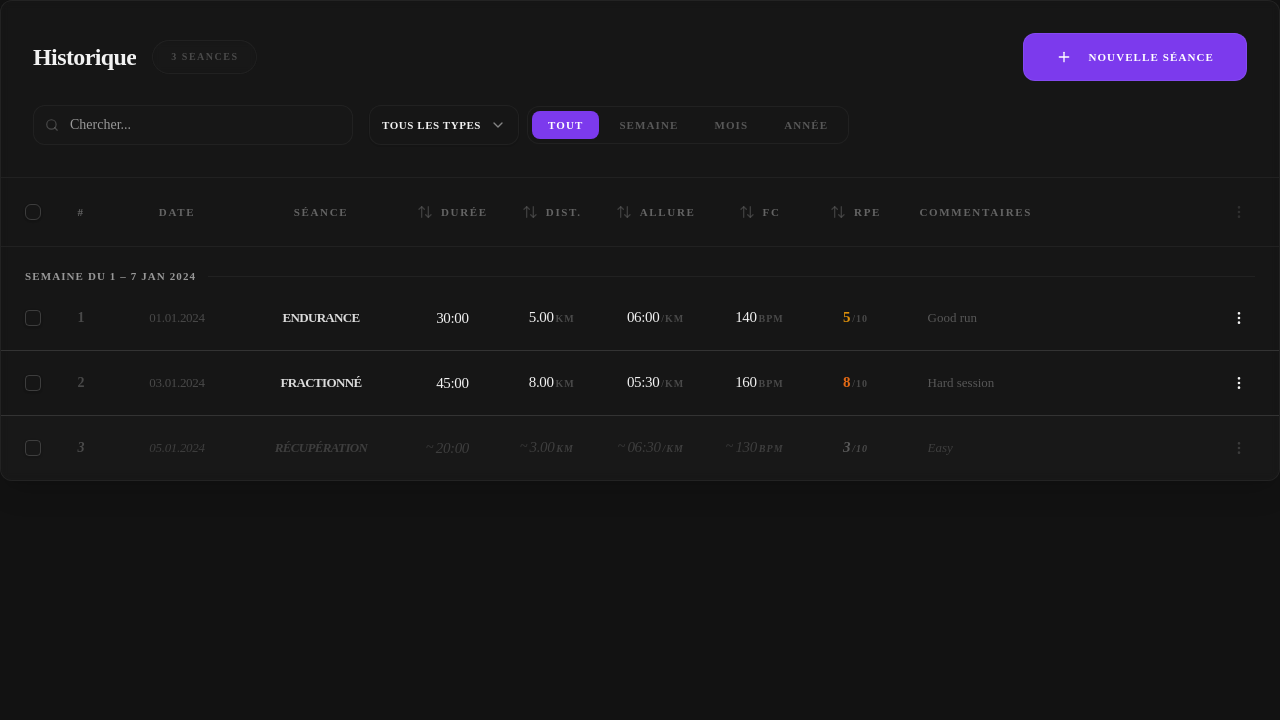
Test: SessionsTable › should select individual session
The width and height of the screenshot is (1280, 720).
Click the checkbox named "Sélectionner la séance 1" at (33, 318), box 25,310 -> 41,326
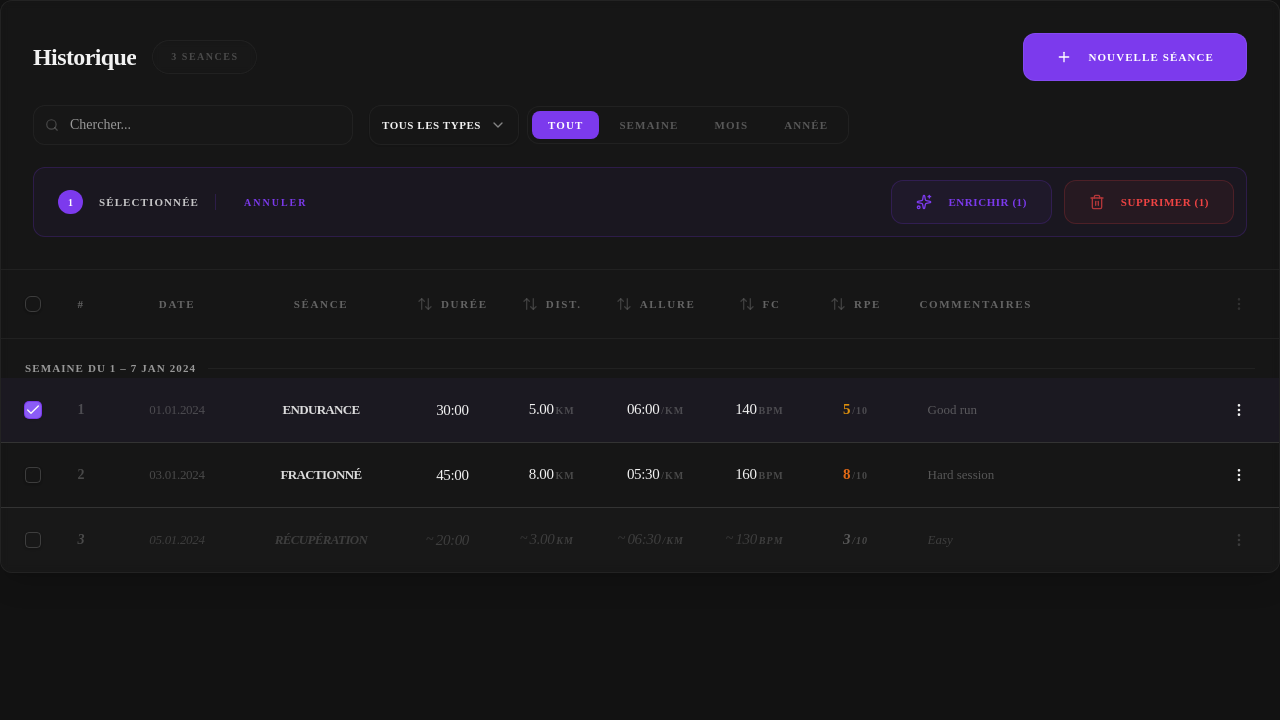
Expected: the text with test id "selection-count" reads "1", 68,196 -> 73,208
Expected: the text "Sélectionnée" is shown, 99,194 -> 199,210
